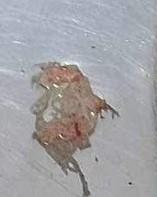Infectious: (28, 60, 119, 196)
